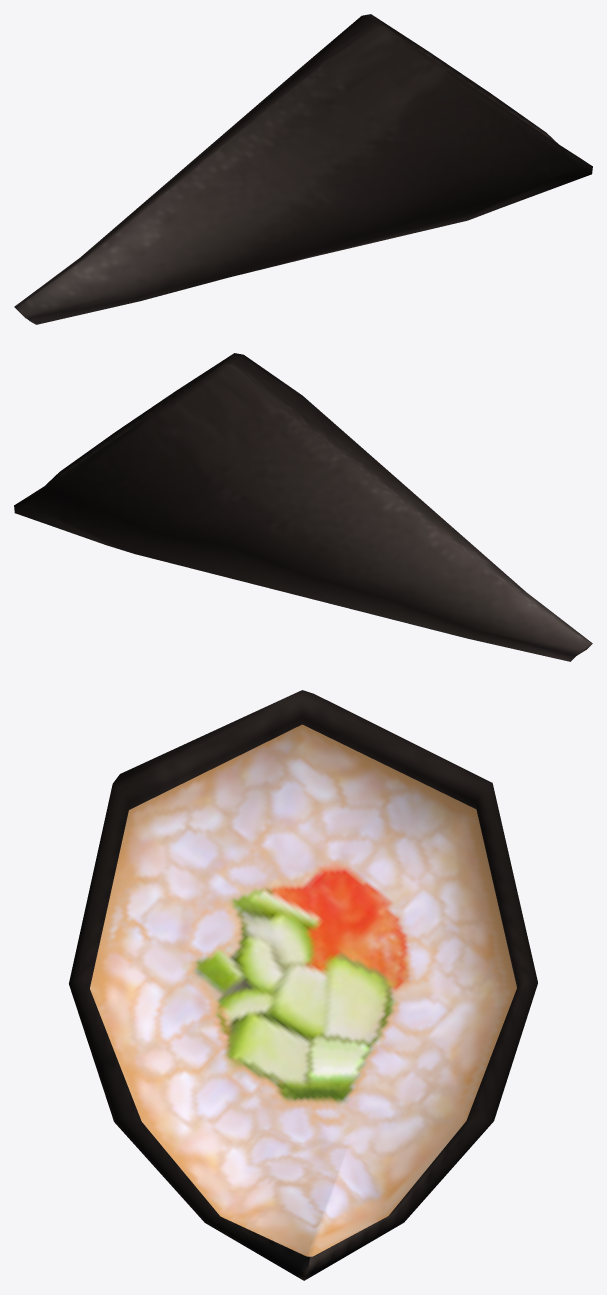
The model's file is Temaki.fbx.
The picture shows the model from 3 angles, top to bottom: view 1: azimuth 30°, elevation 25°; view 2: azimuth 150°, elevation 25°; view 3: azimuth 270°, elevation 25°; orthographic projection. The views are drawn at different scales.
Parts seen in each view (by area): view 1: Temaki.002; view 2: Temaki.002; view 3: Temaki.002.
Boxes of the visible parts, x1,y1,x2,y2 form: Temaki.002: [14, 14, 592, 324]; Temaki.002: [14, 353, 592, 661]; Temaki.002: [69, 690, 537, 1280].
Size of the model in its own units: 1.57 by 0.5649 by 0.5538.
